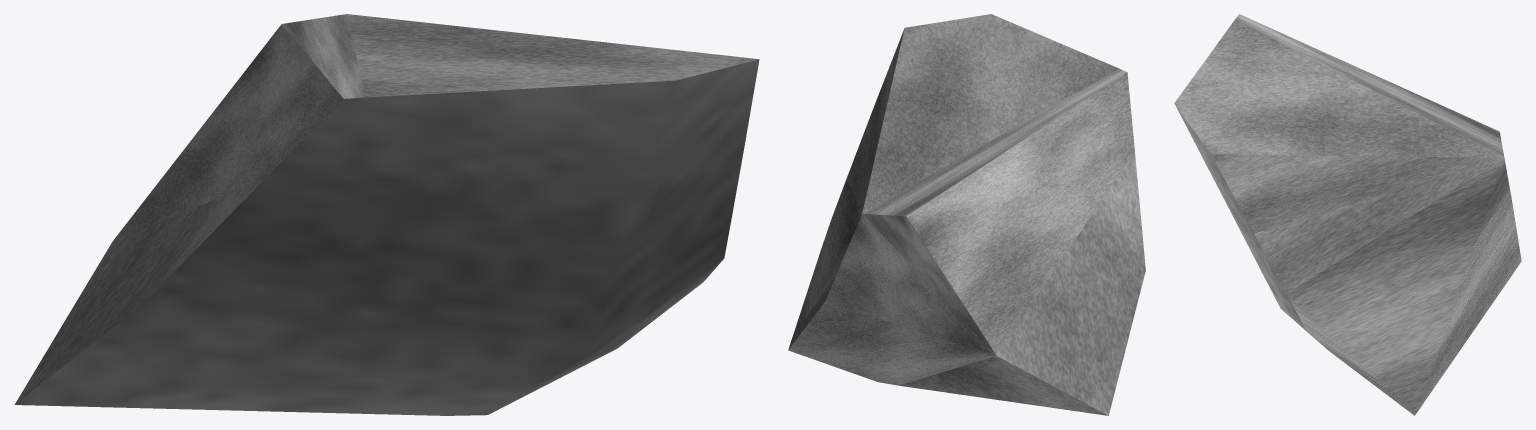
The model's file is body_cell_016.fbx.
3 renders of one model, left to right at view 1: azimuth 30°, elevation 25°; view 2: azimuth 150°, elevation 25°; view 3: azimuth 270°, elevation 25°, orthographic. The views are drawn at different scales.
Visible parts, largest first — view 1: body_cell.016; view 2: body_cell.016; view 3: body_cell.016.
Part boxes in pixels (box(x1,y1,x2,y2)): body_cell.016: box(14, 14, 759, 415); body_cell.016: box(788, 14, 1145, 415); body_cell.016: box(1174, 14, 1521, 415).
Bounding box in the file's own units: 29.34 × 23.18 × 24.87.
